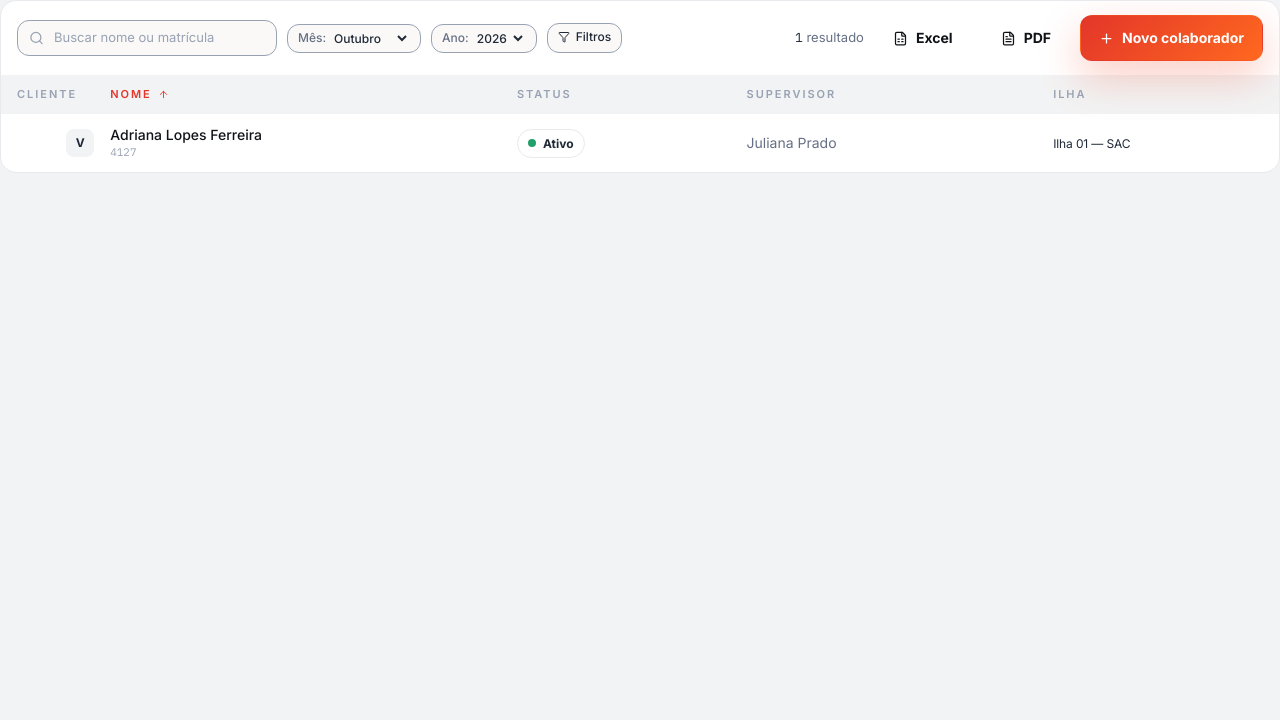
Test: Colaboradores › reutiliza os cadastros auxiliares ao navegar da lista para o detalhe
Click the text "Adriana Lopes Ferreira". click: click(186, 134)
box: [1, 114, 1279, 172]
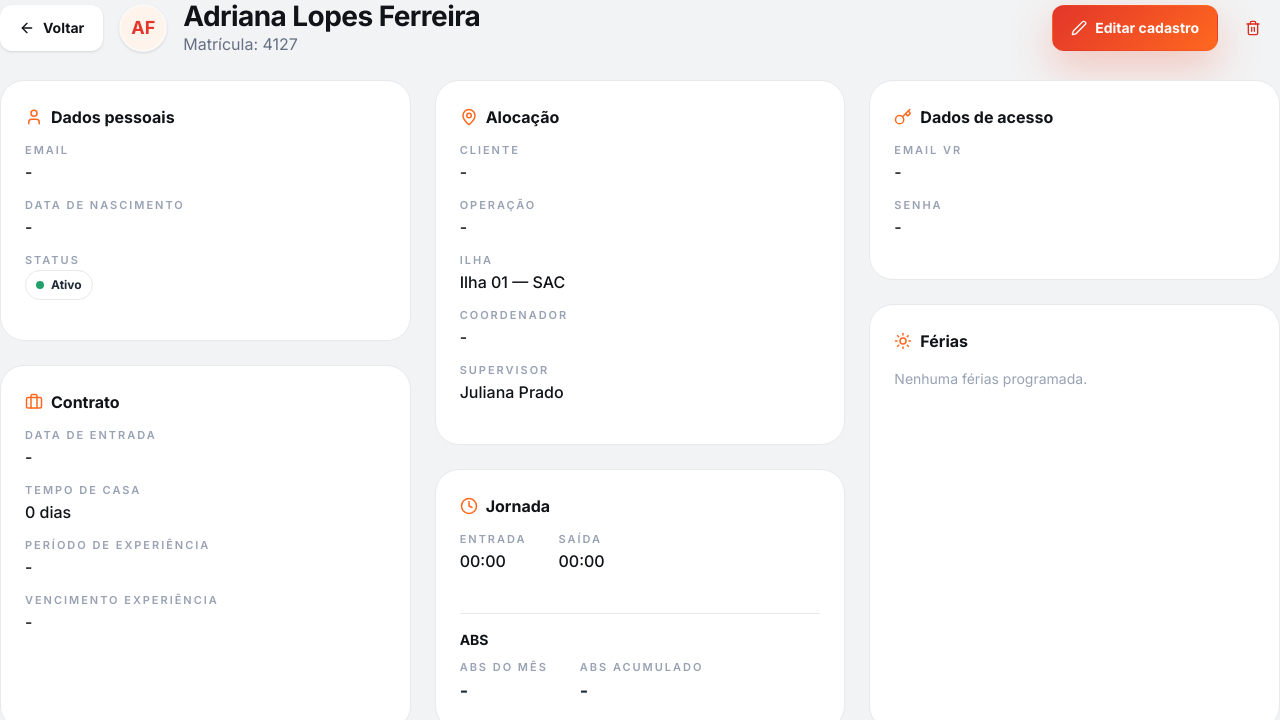
Result: the heading "Dados pessoais" is shown at [25, 107, 175, 127]
